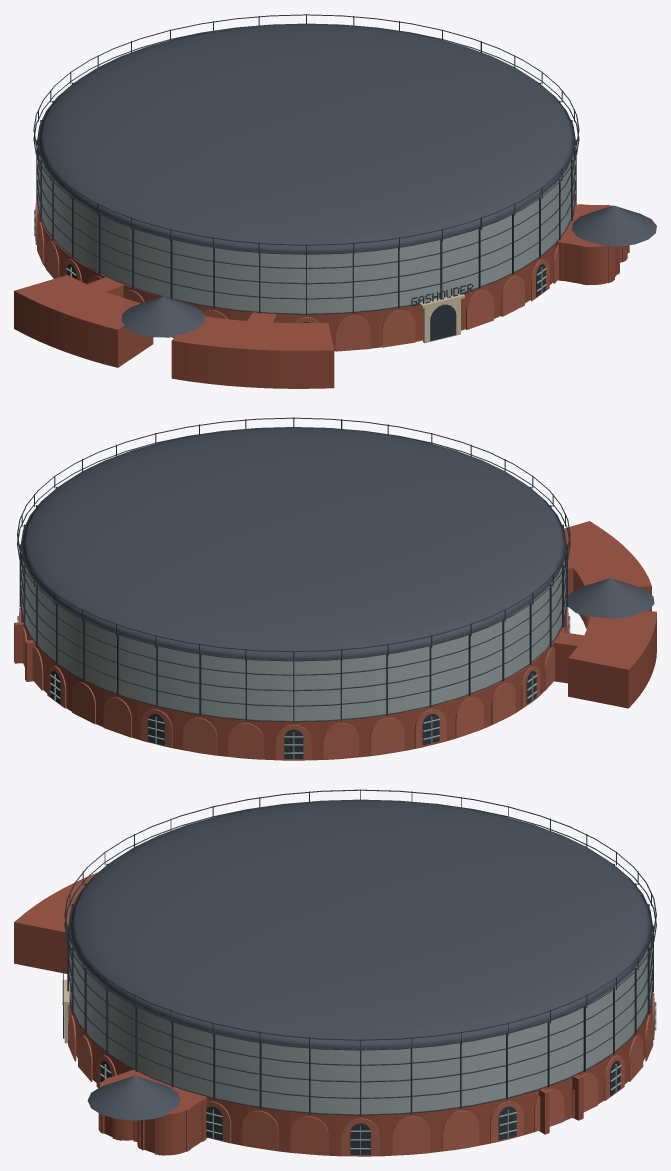
Rendered from gashouder.glb.
The picture shows the model from 3 angles, top to bottom: view 1: azimuth 30°, elevation 25°; view 2: azimuth 150°, elevation 25°; view 3: azimuth 270°, elevation 25°; orthographic projection. The views are drawn at different scales.
Parts seen in each view (by area): view 1: gashouder; view 2: gashouder; view 3: gashouder.
Part boxes in pixels (left/top/right/bottom): gashouder: left=14, top=14, right=656, bottom=388; gashouder: left=14, top=417, right=656, bottom=760; gashouder: left=14, top=789, right=656, bottom=1156.
Bounding box in the file's own units: 75.76 × 16.19 × 70.38.
